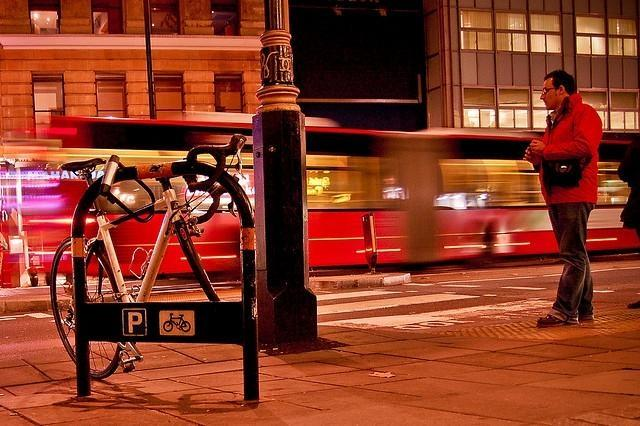bicycle: (48, 160, 220, 371)
